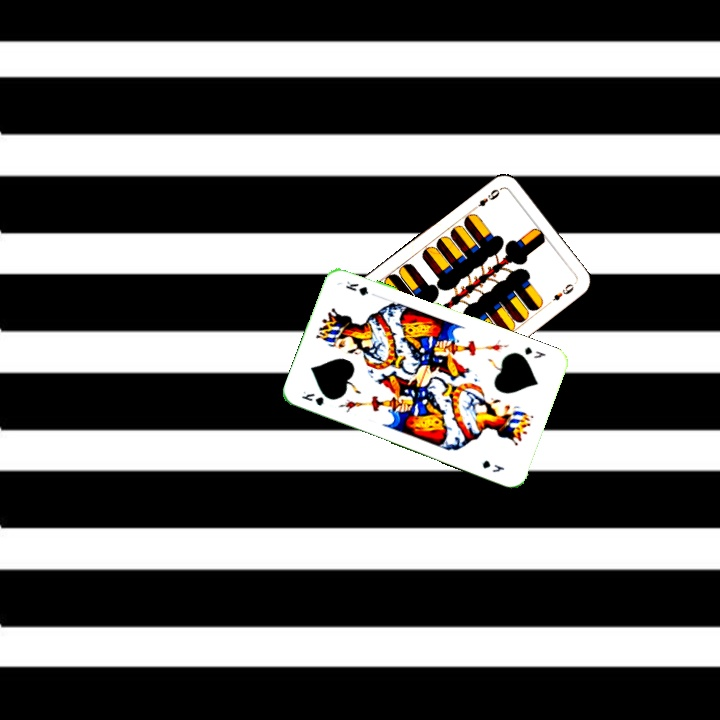E9: (468, 185, 502, 213)
GK: (297, 387, 326, 408), (520, 343, 548, 361)
